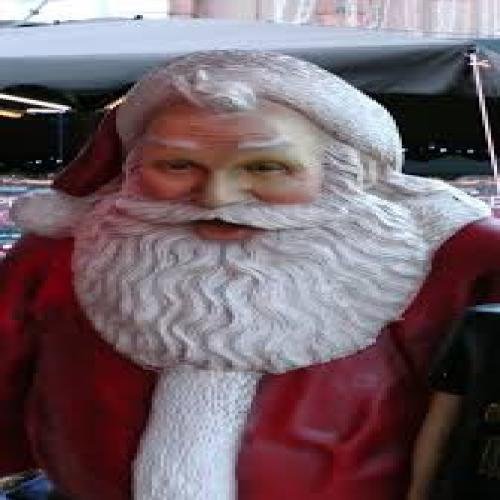Santa: (0, 46, 494, 500)
